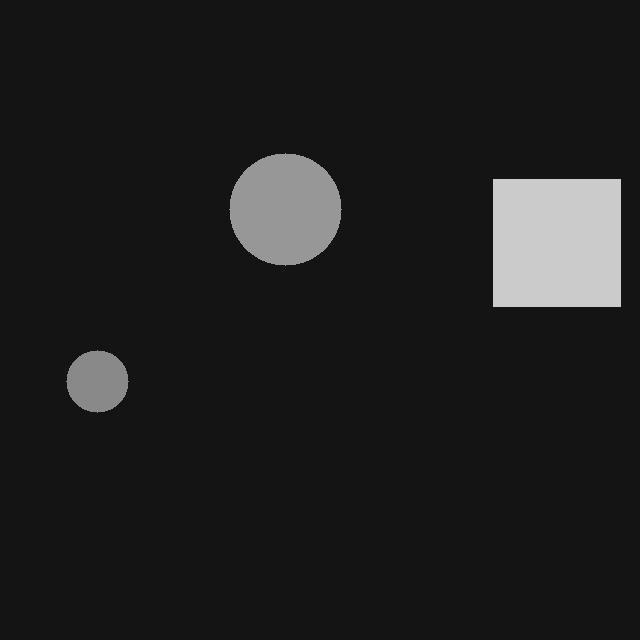circle: (229, 153, 341, 265), (66, 350, 128, 412)
square: (493, 179, 620, 306)
